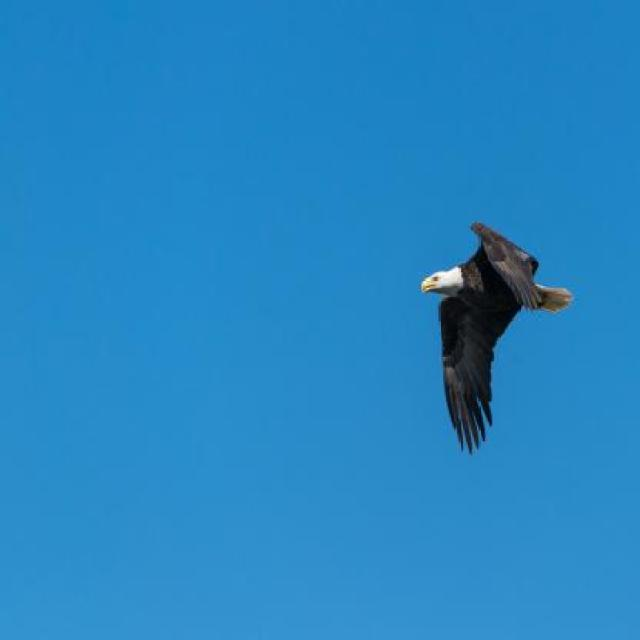bird: (420, 218, 572, 458)
